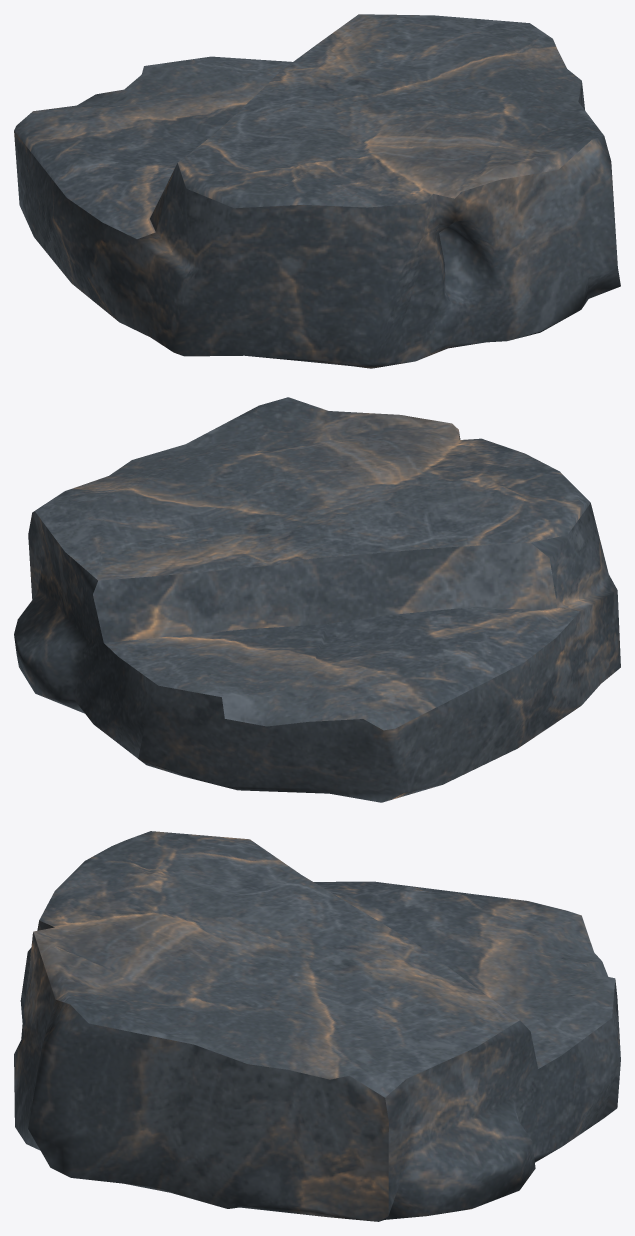
Rendered from Rocher02_low_LOD2.fbx.
The picture shows the model from 3 angles, top to bottom: view 1: azimuth 30°, elevation 25°; view 2: azimuth 150°, elevation 25°; view 3: azimuth 270°, elevation 25°; orthographic projection. The views are drawn at different scales.
Visible parts, largest first — view 1: Rocher02_low_0; view 2: Rocher02_low_0; view 3: Rocher02_low_0.
Part boxes in pixels (x1=…): Rocher02_low_0: x1=14, y1=14, x2=620, y2=368; Rocher02_low_0: x1=14, y1=397, x2=620, y2=802; Rocher02_low_0: x1=14, y1=831, x2=620, y2=1221.
Size of the model in its own units: 28.53 by 9.06 by 28.52.
Materials: 1 (1 with a texture image).
